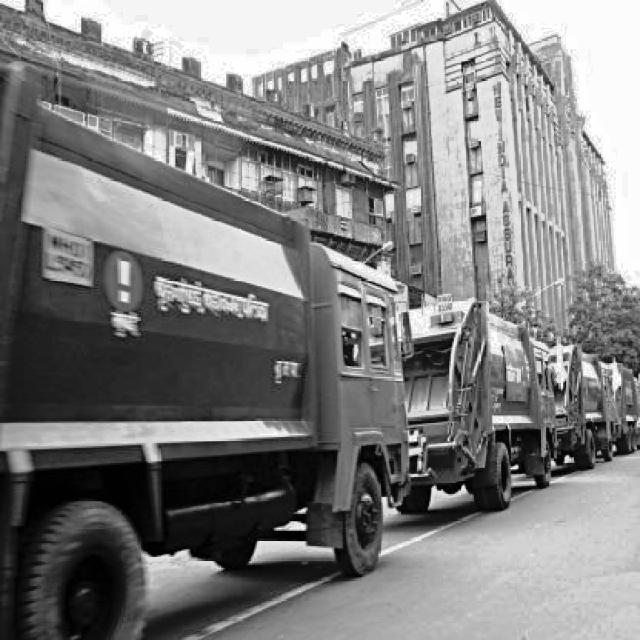HCV: (9, 81, 418, 640), (391, 276, 556, 500), (547, 332, 640, 453), (604, 354, 640, 448)
